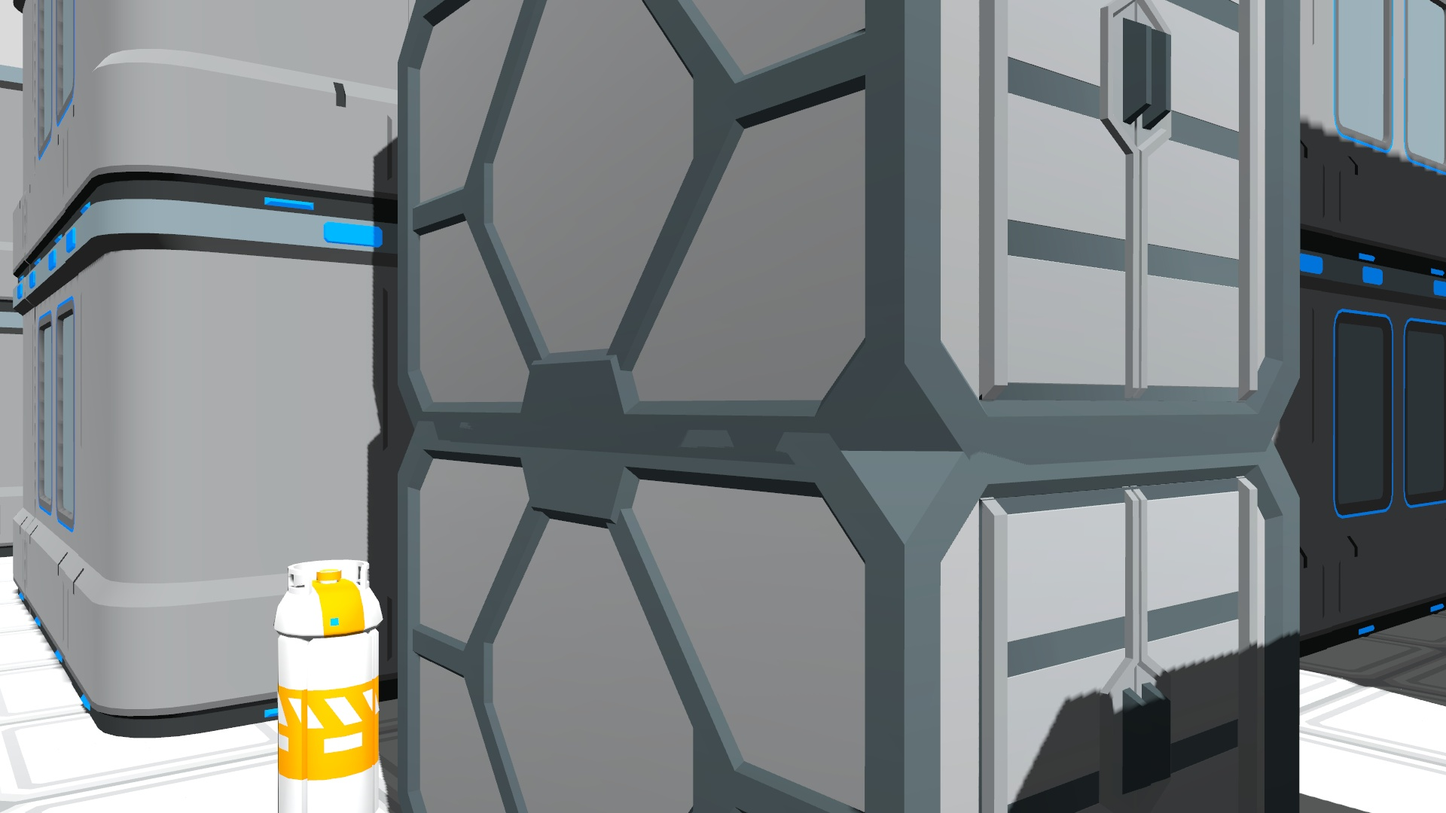yellow_barrel: (267, 556, 383, 813)
